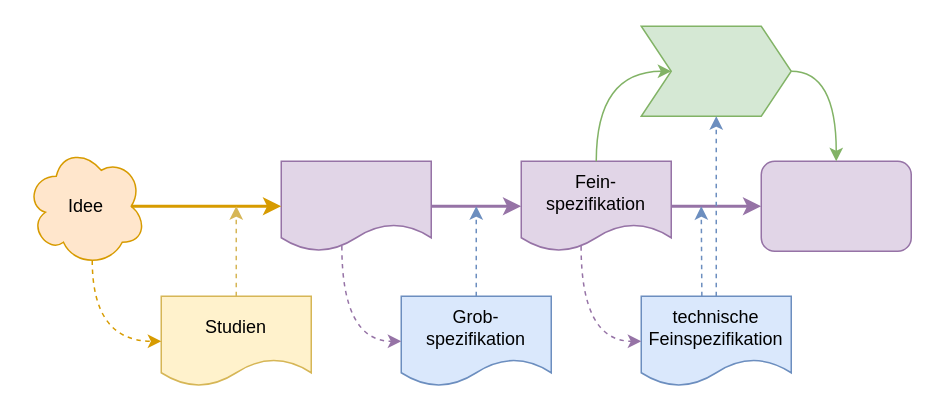
Image size: 938x413. Some labels were removed from this diagram. The shapes that lost their labels are listed below. From the top down, each one's box as (x1, y1, x2, y2) in pixels, then its label:
(640, 25, 791, 116): Umsetzung
(280, 160, 431, 251): Anforderungs- spezifikation
(760, 160, 911, 251): Lösung
